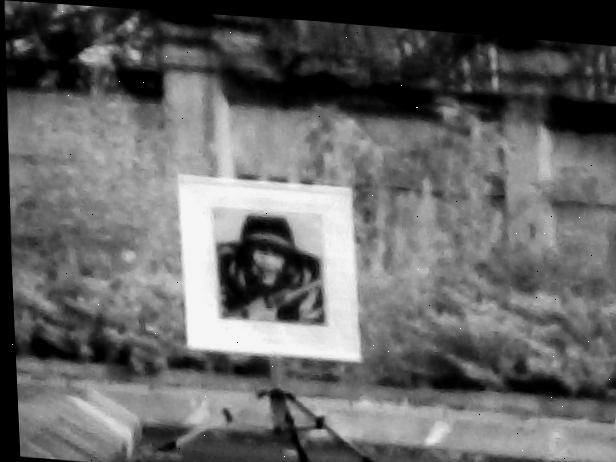bia: (212, 203, 326, 330)
chan: (162, 353, 369, 462)
